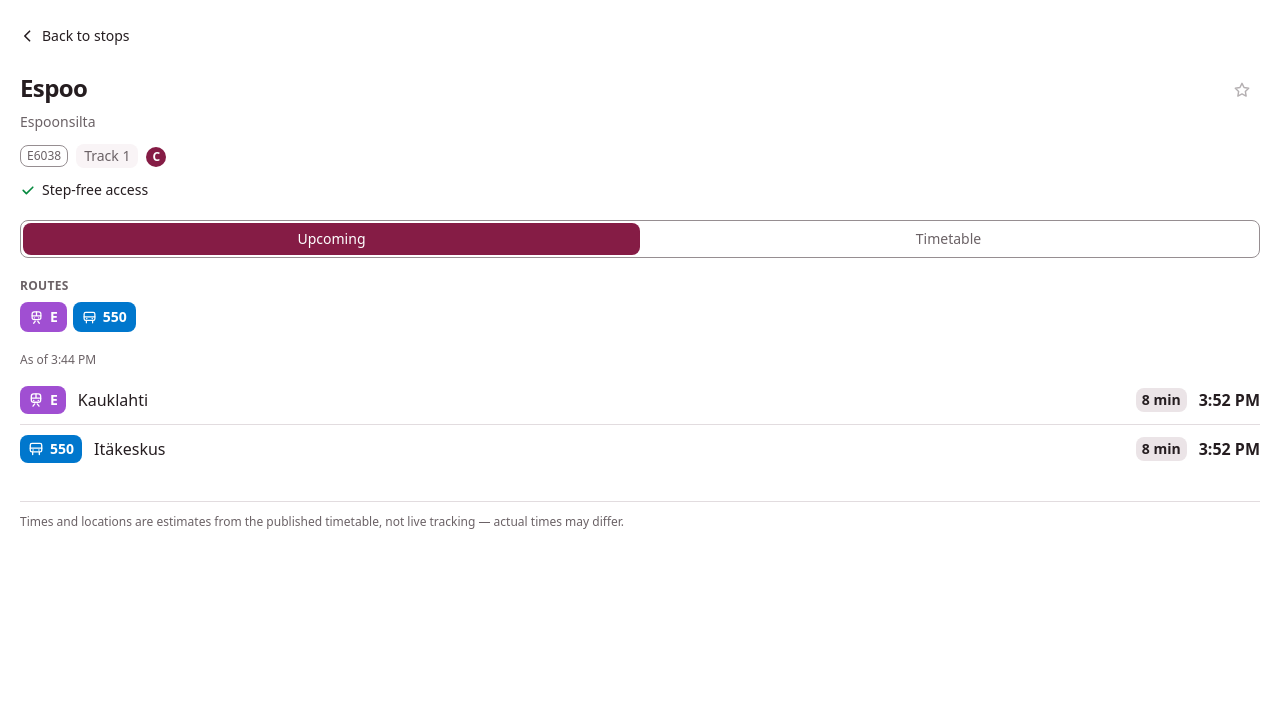
Test: StopInspector › narrows the board to the lines that are left switched on
Expected: the text "Kauklahti" is shown, [78,388,148,412]
Expected: the text "Itäkeskus" is shown, [94,437,166,461]
Step 1. Click the checkbox labelled "550" → coordinates (104, 317), box [73,302,136,332]
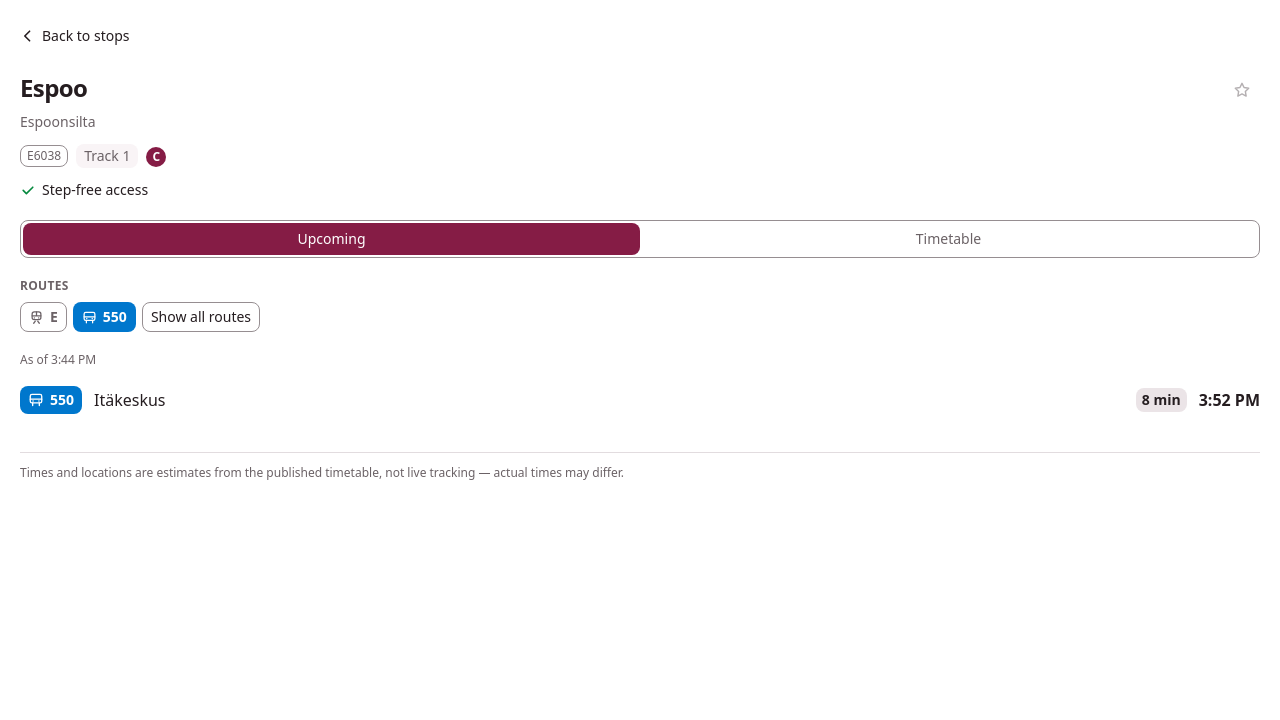
Expected: the text "Itäkeskus" is shown, [94,388,166,412]
Result: the link "Kauklahti" is gone
